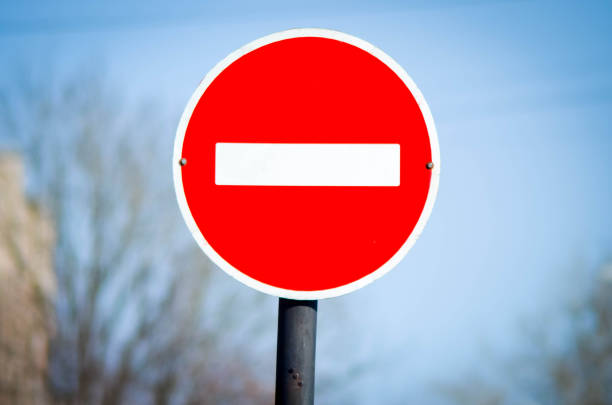Girilmez: (172, 28, 439, 302)
